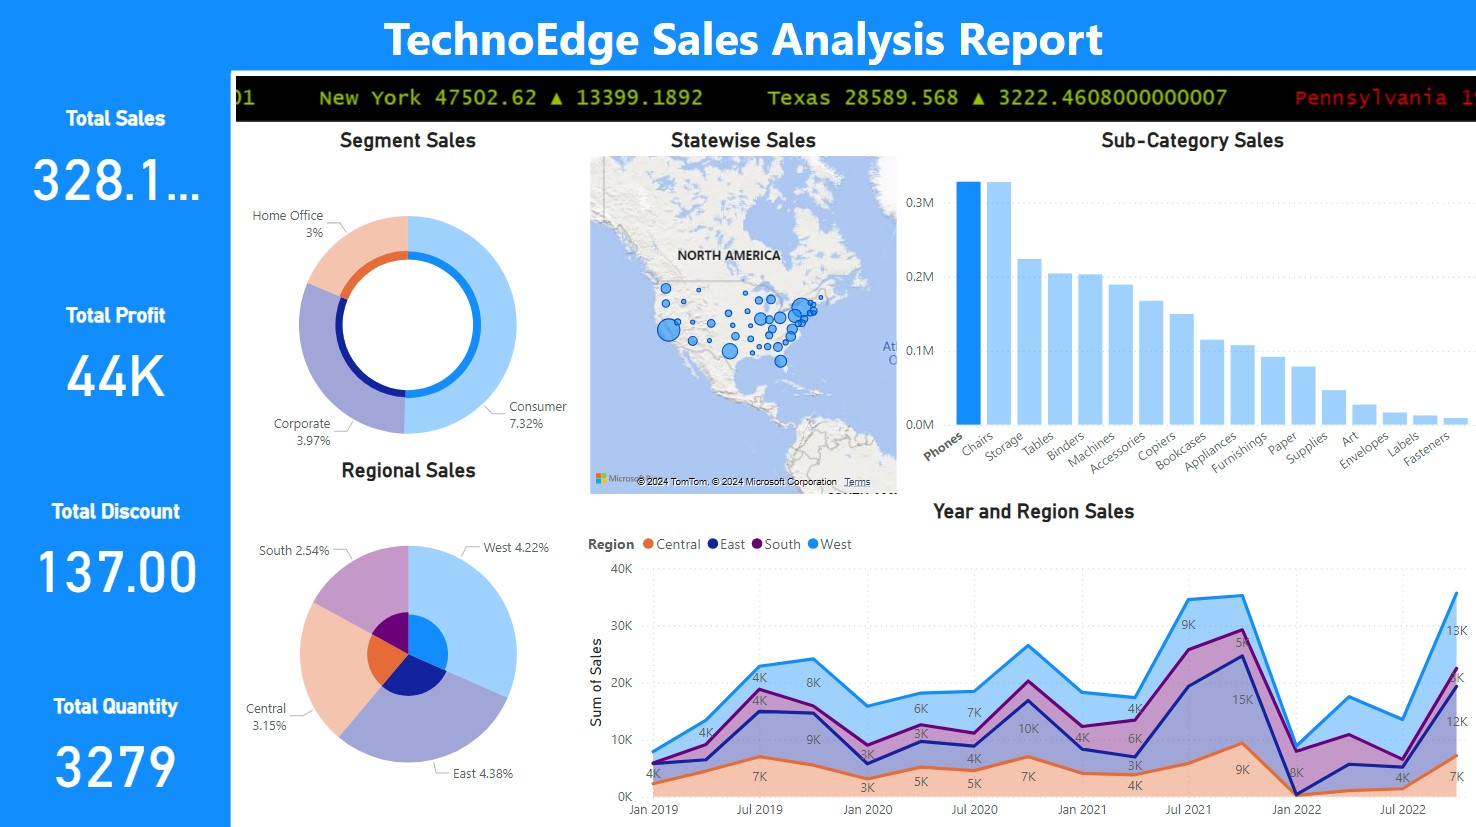

The dashboard page shown, as its layout file describes it:
{"tool":"powerbi","page":{"name":"Page 1","canvas":[1400,800],"ordinal":0},"visuals":[{"type":"shape","box":[0,0,1400.7,71.3],"z":0},{"type":"shape","box":[0,0,217.5,800],"z":1000},{"type":"card","title":"Total Sales","fields":{"Values":["Sum(TechnoEdge Monthy Sales Data.Sales)"]},"box":[20.3,103,178.1,101.7],"z":2000},{"type":"card","title":"Total Profit","fields":{"Values":["Sum(TechnoEdge Monthy Sales Data.Profit)"]},"box":[20.3,287.4,178.1,101.7],"z":3000},{"type":"card","title":"Total Discount","fields":{"Values":["Sum(TechnoEdge Monthy Sales Data.Discount)"]},"box":[20.3,471.8,178.1,101.7],"z":4000},{"type":"card","title":"Total Quantity","fields":{"Values":["Sum(TechnoEdge Monthy Sales Data.Quantity)"]},"box":[20.3,656.3,178.1,101.7],"z":5000},{"type":"donutChart","title":"Segment Sales","fields":{"Y":["Sum(TechnoEdge Monthy Sales Data.Sales)"],"Category":["TechnoEdge Monthy Sales Data.Segment"]},"box":[217.5,122.1,333.2,349.7],"z":6000},{"type":"pieChart","title":"Regional Sales","fields":{"Y":["Sum(TechnoEdge Monthy Sales Data.Sales)"],"Category":["TechnoEdge Monthy Sales Data.Region"]},"box":[218.8,433.7,331.9,348.5],"z":7000},{"type":"columnChart","title":"Sub-Category Sales","fields":{"Y":["Sum(TechnoEdge Monthy Sales Data.Sales)"],"Category":["TechnoEdge Monthy Sales Data.Sub-Category"]},"box":[848.3,122.1,552,349.7],"z":8000},{"type":"stackedAreaChart","title":"Year and Region Sales","fields":{"Y":["Sum(TechnoEdge Monthy Sales Data.Sales)"],"Series":["TechnoEdge Monthy Sales Data.Region"],"Category":["TechnoEdge Monthy Sales Data.Order Date.Variation.Date Hierarchy.Year","TechnoEdge Monthy Sales Data.Order Date.Variation.Date Hierarchy.Quarter","TechnoEdge Monthy Sales Data.Order Date.Variation.Date Hierarchy.Month","TechnoEdge Monthy Sales Data.Order Date.Variation.Date Hierarchy.Day"]},"box":[549.4,471.8,850.8,310.3],"z":9000},{"type":"map","title":"Statewise Sales","fields":{"Category":["TechnoEdge Monthy Sales Data.State"],"Size":["Sum(TechnoEdge Monthy Sales Data.Sales)"]},"box":[550.7,122.1,298.9,349.7],"z":9001},{"type":"ScrollingTextVisual1448795304508","fields":{"Category":["TechnoEdge Monthy Sales Data.State"],"Measure Absolute":["Sum(TechnoEdge Monthy Sales Data.Sales)"],"Measure Deviation":["Sum(TechnoEdge Monthy Sales Data.Profit)"]},"box":[217.5,68.7,1182.8,53.4],"z":9002}]}

Visuals, with their boxes in screenshot pixels (x1, y1, x2, y2), scaled from the page's 1400x800 canvas onto the 1476x827 screenshot:
shape: x1=0, y1=0, x2=1475, y2=74
shape: x1=0, y1=0, x2=229, y2=826
"Total Sales" card: x1=21, y1=106, x2=209, y2=212
"Total Profit" card: x1=21, y1=297, x2=209, y2=402
"Total Discount" card: x1=21, y1=488, x2=209, y2=593
"Total Quantity" card: x1=21, y1=678, x2=209, y2=784
"Segment Sales" donutChart: x1=229, y1=126, x2=581, y2=488
"Regional Sales" pieChart: x1=231, y1=448, x2=581, y2=809
"Sub-Category Sales" columnChart: x1=894, y1=126, x2=1475, y2=488
"Year and Region Sales" stackedAreaChart: x1=579, y1=488, x2=1475, y2=808
"Statewise Sales" map: x1=581, y1=126, x2=896, y2=488
ScrollingTextVisual1448795304508 - TechnoEdge Monthy Sales Data.State x Sum(TechnoEdge Monthy Sales Data.Sales): x1=229, y1=71, x2=1475, y2=126
